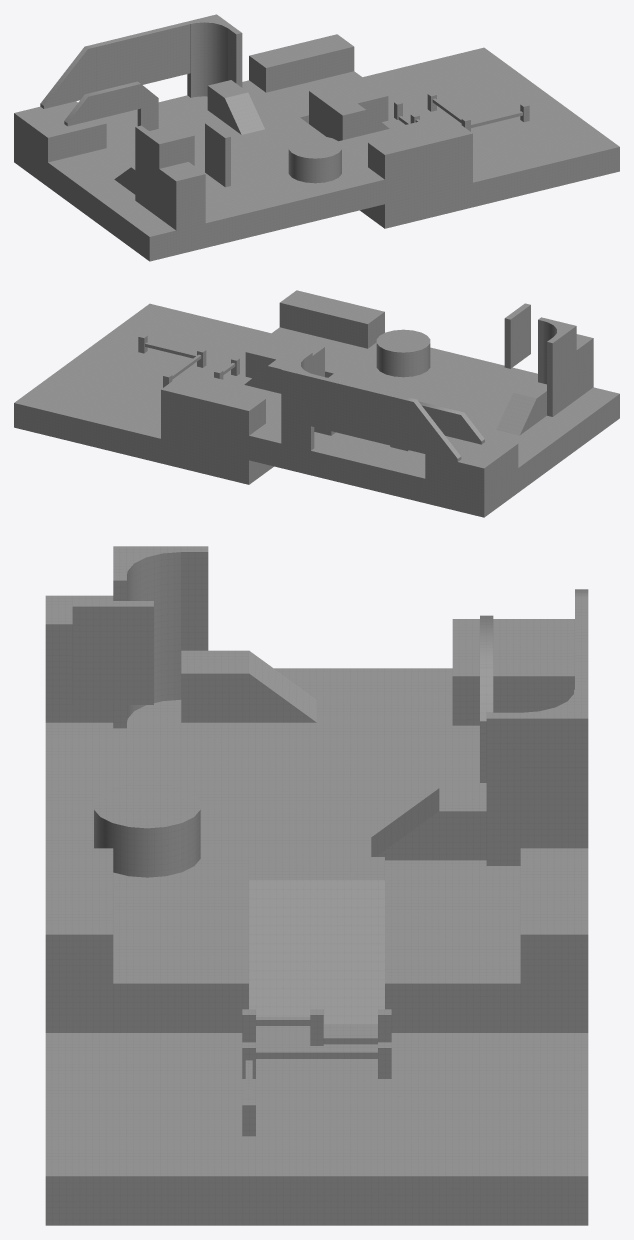
The model's file is parkourtest01.FBX.
The picture shows the model from 3 angles, top to bottom: view 1: azimuth 30°, elevation 25°; view 2: azimuth 150°, elevation 25°; view 3: azimuth 270°, elevation 25°; orthographic projection. The views are drawn at different scales.
Parts seen in each view (by area): view 1: Box004; view 2: Box004; view 3: Box004.
Boxes of the visible parts, left/top/right/bottom form: Box004: left=14, top=14, right=619, bottom=261; Box004: left=14, top=290, right=619, bottom=517; Box004: left=45, top=546, right=588, bottom=1225.
Size of the model in its own units: 160 by 80 by 40.
